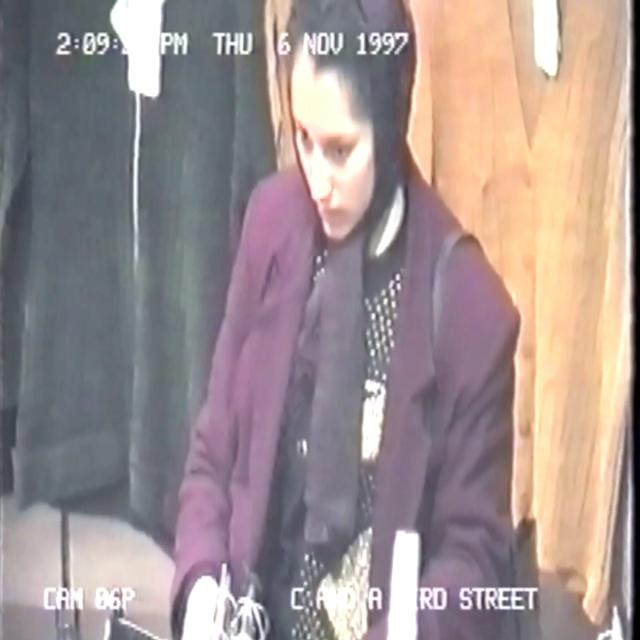normal: (100, 2, 525, 637)
